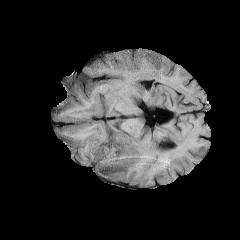glioma: (88, 132, 140, 177)
